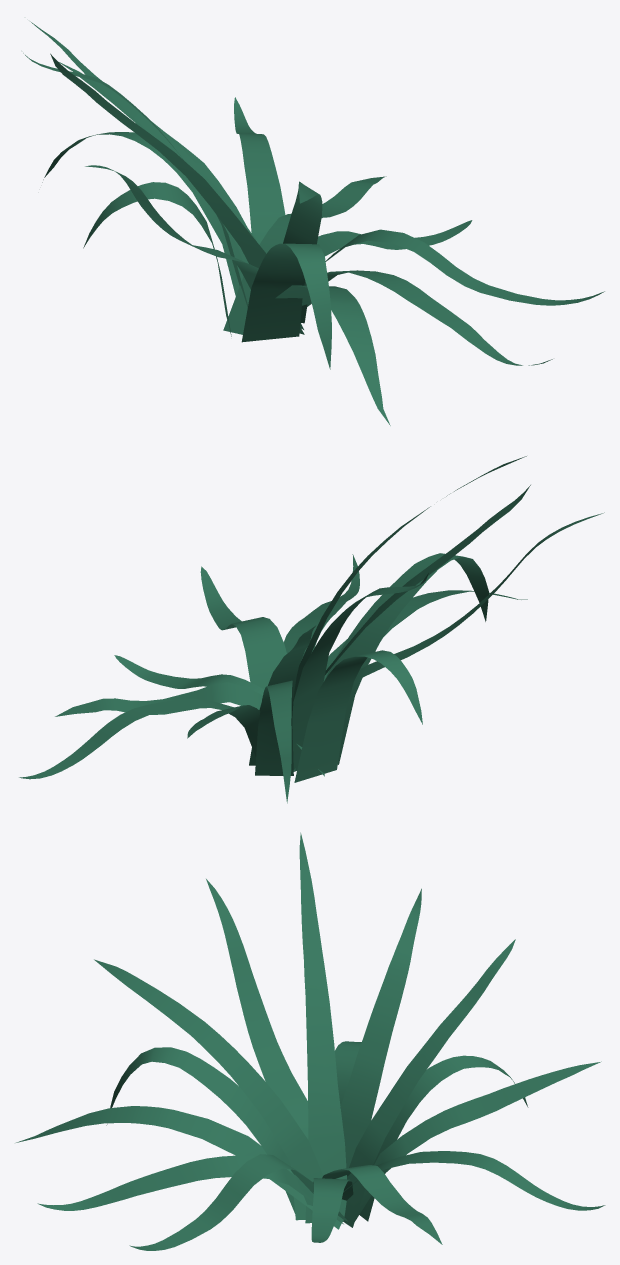
Rendered from plant_aloevera_C.fbx.
3 views of the same model, one above another, from view 1: azimuth 30°, elevation 25°; view 2: azimuth 150°, elevation 25°; view 3: azimuth 270°, elevation 25° (orthographic). The views are drawn at different scales.
Parts seen in each view (by area): view 1: agave_C_leaf_top_H, agave_C_leaf_bottom_C, agave_C_leaf_top_A, agave_C_leaf_bottom_B, agave_C_leaf_bottom_F, agave_C_leaf_bottom_D, agave_C_leaf_bottom_G, agave_C_leaf_top_I, agave_C_leaf_top_C, agave_C_leaf_top_E, agave_C_leaf_top_J, agave_C_leaf_top_D (+3 smaller); view 2: agave_C_leaf_top_I, agave_C_leaf_top_H, agave_C_leaf_top_J, agave_C_leaf_bottom_F, agave_C_leaf_top_B, agave_C_leaf_bottom_D, agave_C_leaf_bottom_C, agave_C_leaf_top_A, agave_C_leaf_bottom_E, agave_C_leaf_bottom_G, agave_C_leaf_top_D, agave_C_leaf_top_C (+3 smaller); view 3: agave_C_leaf_top_A, agave_C_leaf_top_E, agave_C_leaf_top_B, agave_C_leaf_top_D, agave_C_leaf_top_C, agave_C_leaf_bottom_B, agave_C_leaf_bottom_A, agave_C_leaf_top_H, agave_C_leaf_bottom_G, agave_C_leaf_bottom_F, agave_C_leaf_bottom_C, agave_C_leaf_top_J (+3 smaller).
Boxes of the visible parts, left/top/right/bottom form: agave_C_leaf_top_H: left=241, top=243, right=331, bottom=369; agave_C_leaf_bottom_C: left=234, top=97, right=285, bottom=244; agave_C_leaf_top_A: left=50, top=53, right=303, bottom=329; agave_C_leaf_bottom_B: left=275, top=285, right=390, bottom=425; agave_C_leaf_bottom_F: left=325, top=229, right=604, bottom=305; agave_C_leaf_bottom_D: left=223, top=176, right=386, bottom=339; agave_C_leaf_bottom_G: left=304, top=270, right=552, bottom=365; agave_C_leaf_top_I: left=83, top=182, right=231, bottom=336; agave_C_leaf_top_C: left=30, top=21, right=256, bottom=263; agave_C_leaf_top_E: left=283, top=181, right=322, bottom=323; agave_C_leaf_top_J: left=42, top=132, right=243, bottom=296; agave_C_leaf_top_D: left=85, top=165, right=304, bottom=334; agave_C_leaf_top_I: left=294, top=650, right=422, bottom=782; agave_C_leaf_top_H: left=324, top=553, right=488, bottom=764; agave_C_leaf_top_J: left=255, top=680, right=293, bottom=803; agave_C_leaf_bottom_F: left=200, top=566, right=286, bottom=689; agave_C_leaf_top_B: left=292, top=573, right=428, bottom=771; agave_C_leaf_bottom_D: left=55, top=682, right=324, bottom=776; agave_C_leaf_bottom_C: left=19, top=698, right=233, bottom=779; agave_C_leaf_top_A: left=325, top=485, right=530, bottom=674; agave_C_leaf_bottom_E: left=114, top=655, right=264, bottom=695; agave_C_leaf_bottom_G: left=284, top=554, right=359, bottom=660; agave_C_leaf_top_D: left=353, top=512, right=604, bottom=682; agave_C_leaf_top_C: left=249, top=625, right=315, bottom=765; agave_C_leaf_top_A: left=299, top=832, right=346, bottom=1223; agave_C_leaf_top_E: left=94, top=959, right=323, bottom=1215; agave_C_leaf_top_B: left=340, top=888, right=421, bottom=1168; agave_C_leaf_top_D: left=206, top=879, right=308, bottom=1220; agave_C_leaf_top_C: left=343, top=939, right=515, bottom=1227; agave_C_leaf_bottom_B: left=16, top=1106, right=341, bottom=1229; agave_C_leaf_bottom_A: left=355, top=1061, right=601, bottom=1220; agave_C_leaf_top_H: left=106, top=1047, right=295, bottom=1213; agave_C_leaf_bottom_G: left=37, top=1155, right=343, bottom=1224; agave_C_leaf_bottom_F: left=129, top=1154, right=347, bottom=1250; agave_C_leaf_bottom_C: left=343, top=1151, right=605, bottom=1210; agave_C_leaf_top_J: left=359, top=1055, right=528, bottom=1221.
Bounding box in the file's own units: 117 × 80.69 × 150.
